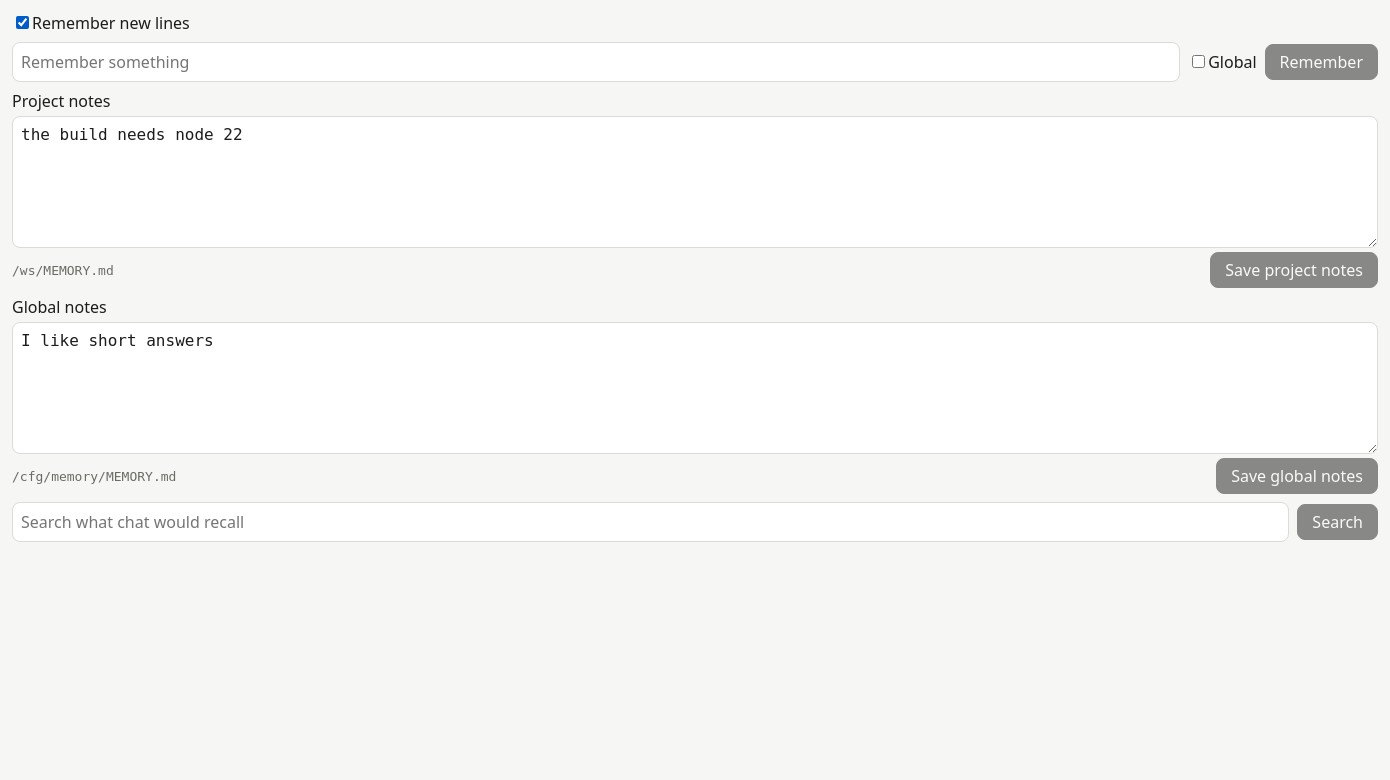
Test: Memory › saves an edit and says when a secret was redacted
The width and height of the screenshot is (1390, 780).
Replace the text in the text box labelled "Project notes" with "token sk-abcdefghijklmnopqrstuv" at coordinates (695, 182), box [12,116,1378,248]
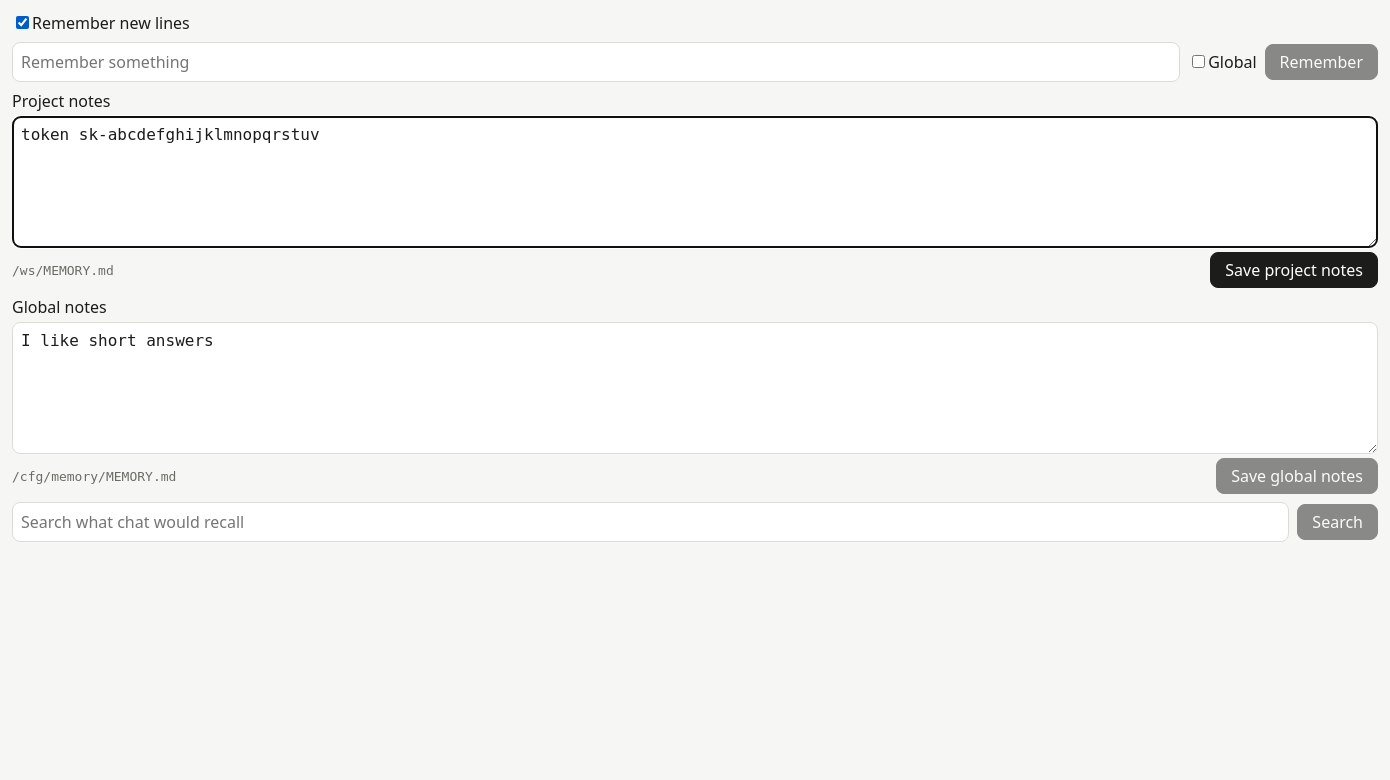
Click the button "Save project notes" at coordinates (1294, 270), box [1210,252,1378,288]
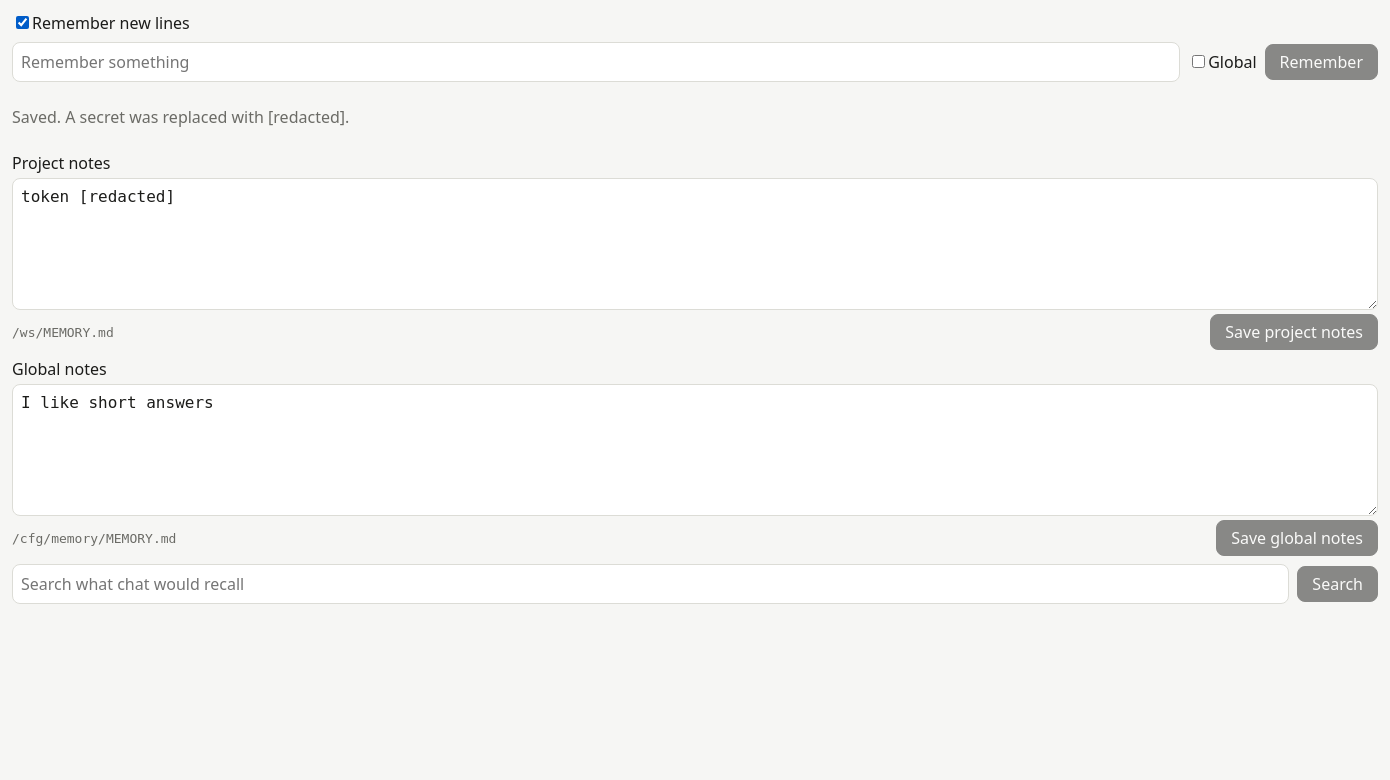
expect the text "Saved. A secret was replaced with [redacted]." is shown: met, box [12,106,349,128]
